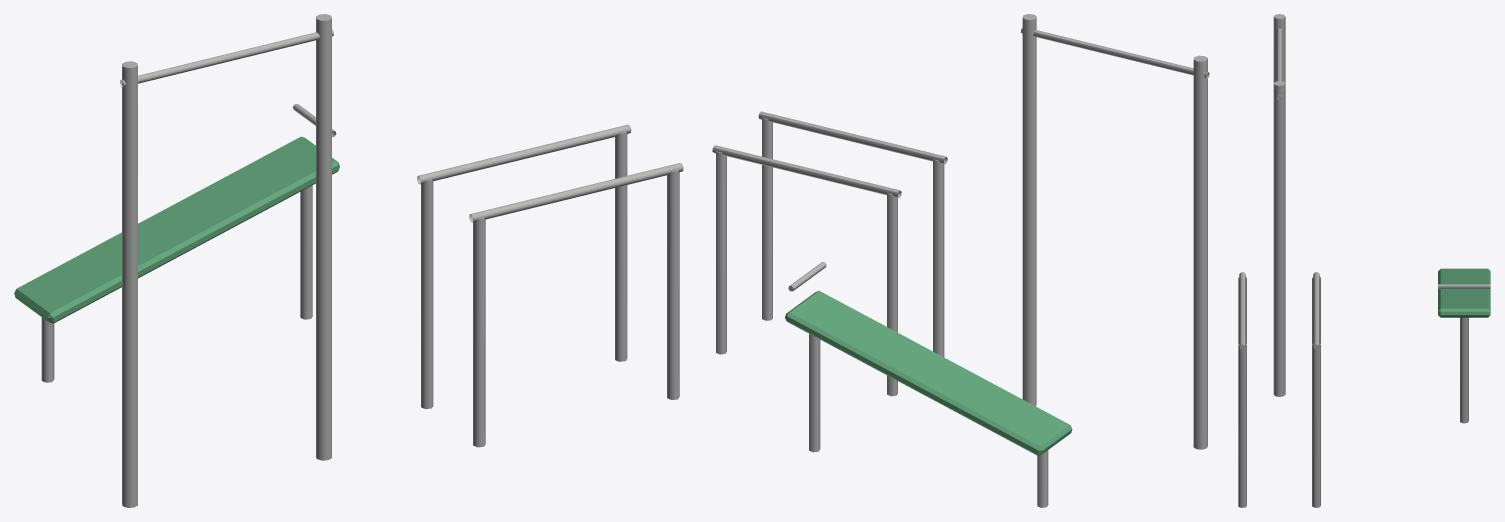
The model's file is fitness-station.glb.
3 renders of one model, left to right at view 1: azimuth 30°, elevation 25°; view 2: azimuth 150°, elevation 25°; view 3: azimuth 270°, elevation 25°, orthographic. The views are drawn at different scales.
Parts seen in each view (by area): view 1: fitness-station; view 2: fitness-station; view 3: fitness-station.
Boxes of the visible parts, bbox=[...] form: fitness-station: bbox=[14, 14, 683, 507]; fitness-station: bbox=[712, 14, 1209, 507]; fitness-station: bbox=[1238, 14, 1490, 507].
Size of the model in its own units: 3.3 by 2.6 by 1.91.
